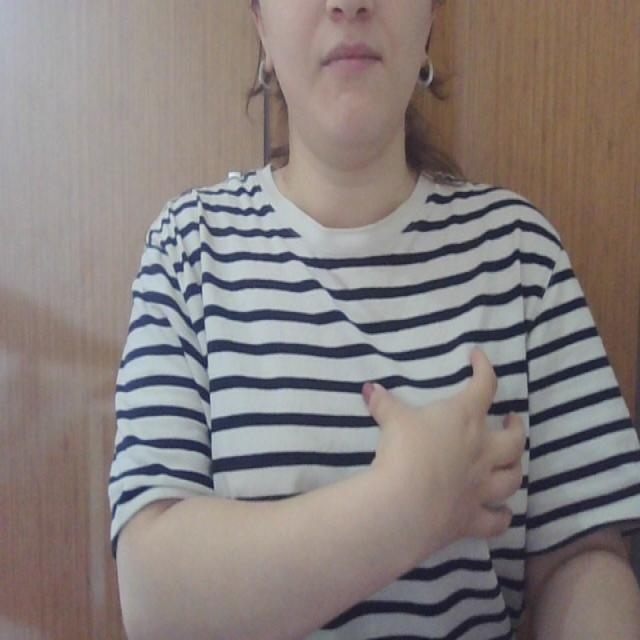Anne: (189, 336, 538, 575)
